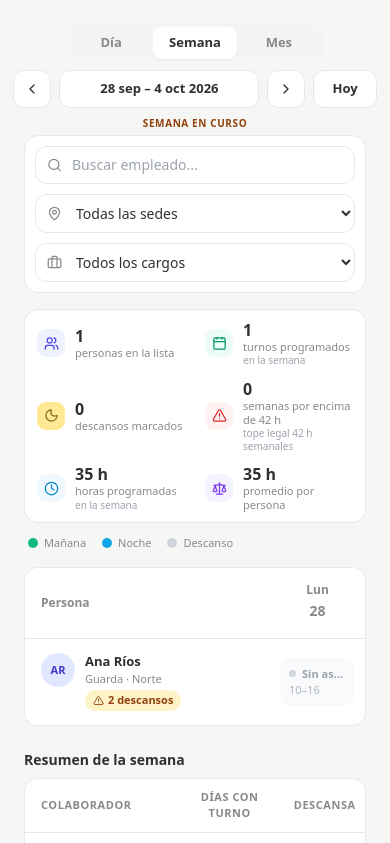
los avisos que cuestan dinero › si el umbral no viene en la respuesta, NO se inventa uno
Step 1. Click the button with aria-label "marcar la semana de Ana Ríos" → (150, 682), box [41,653,260,711]
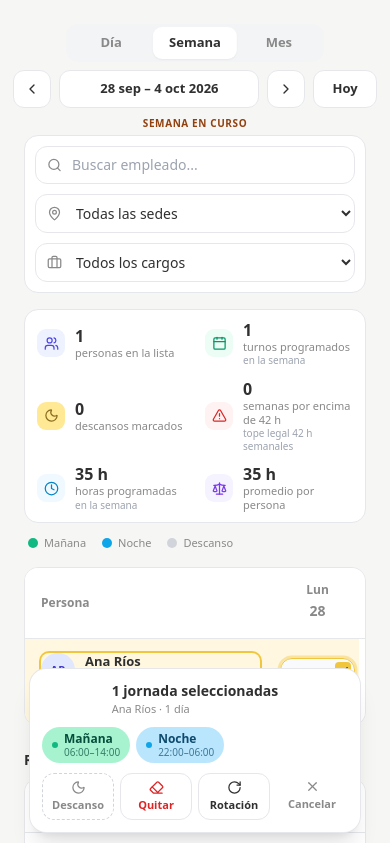
Step 2. Click the button "Noche 22:00–06:00" → (180, 745), box [136,727,224,762]
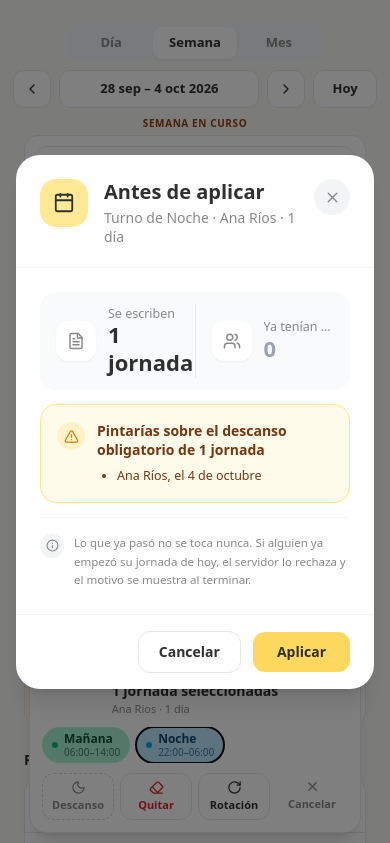
Expected: the dialog "Antes de aplicar" does not show "habitual", [16,155,374,689]
Now the dialog "Antes de aplicar" shows "descanso obligatorio", box [97,421,287,459]
